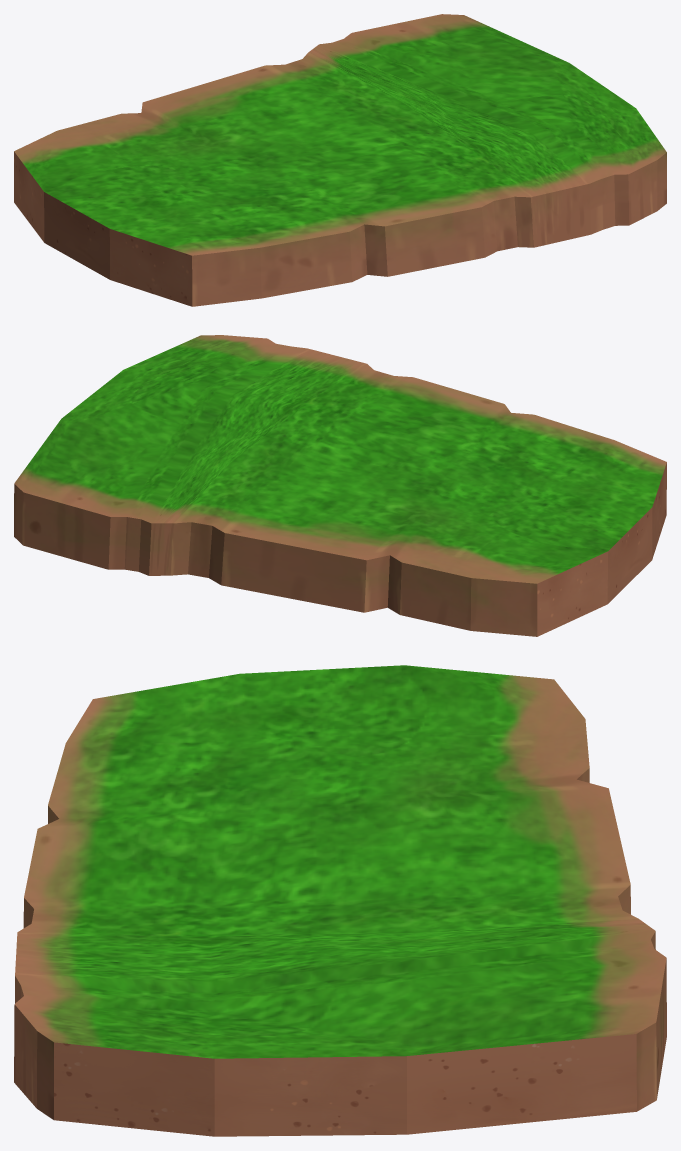
The model's file is ground_short02.fbx.
3 views of the same model, one above another, from view 1: azimuth 30°, elevation 25°; view 2: azimuth 150°, elevation 25°; view 3: azimuth 270°, elevation 25° (orthographic). The views are drawn at different scales.
Parts seen in each view (by area): view 1: ground_short02; view 2: ground_short02; view 3: ground_short02.
Boxes of the visible parts, <box> form: ground_short02: <box>14,14,666,306</box>; ground_short02: <box>14,335,666,636</box>; ground_short02: <box>14,665,666,1136</box>.
Size of the model in its own units: 2.88 by 2.02 by 0.2664.
